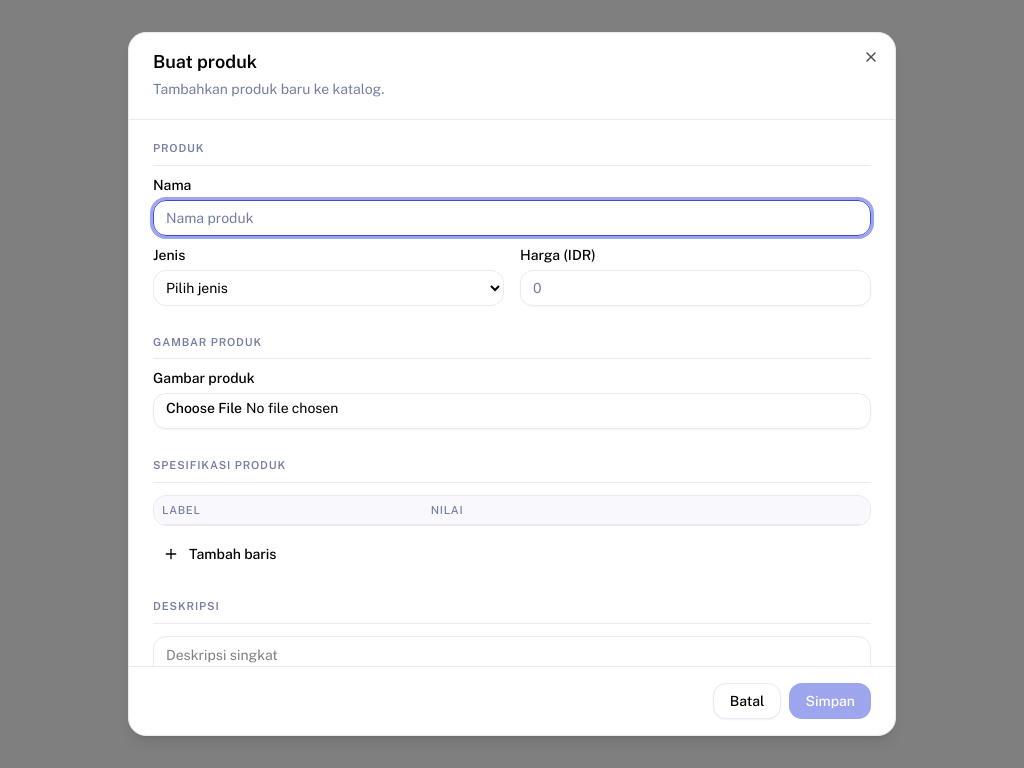
Test: ProductModal › requires at least one exam checked before submit is enabled for exam type
This screenshot has width=1024, height=768.
Select "Ujian" in the dropdown labelled "Jenis": (328,288) [153, 270, 504, 306]
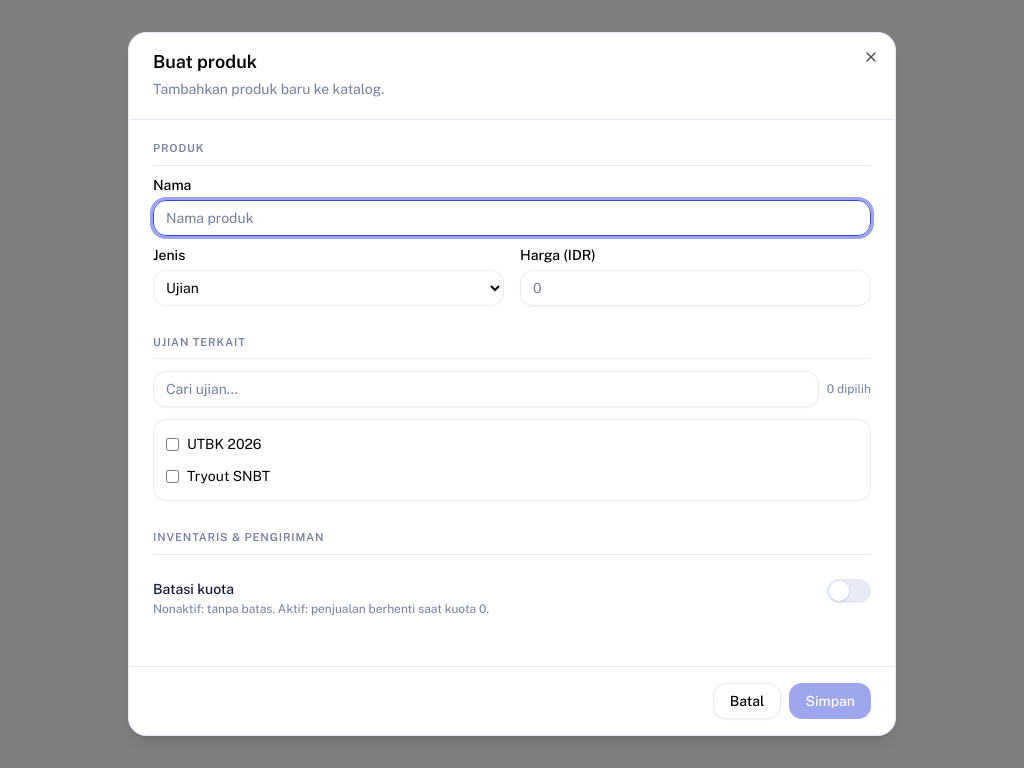
In the field labelled "Nama": (512,218) [153, 200, 871, 236], type "Paket Ujian"
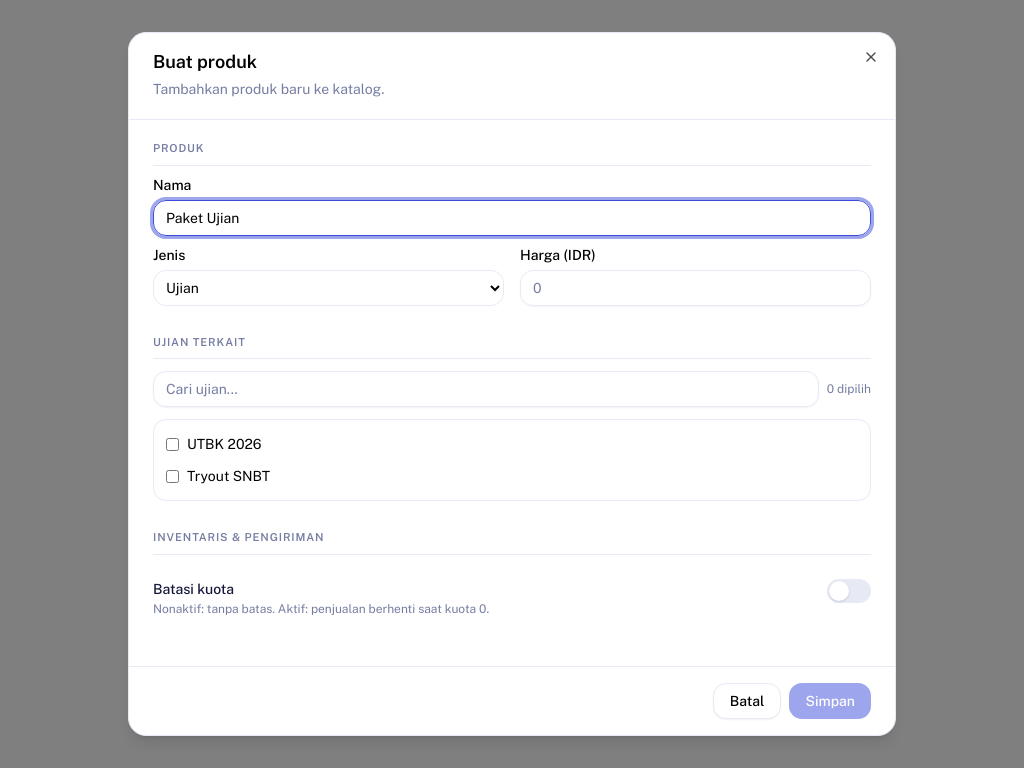
In the number field labelled "Harga (IDR)": (696,288) [520, 270, 871, 306], type "100000"
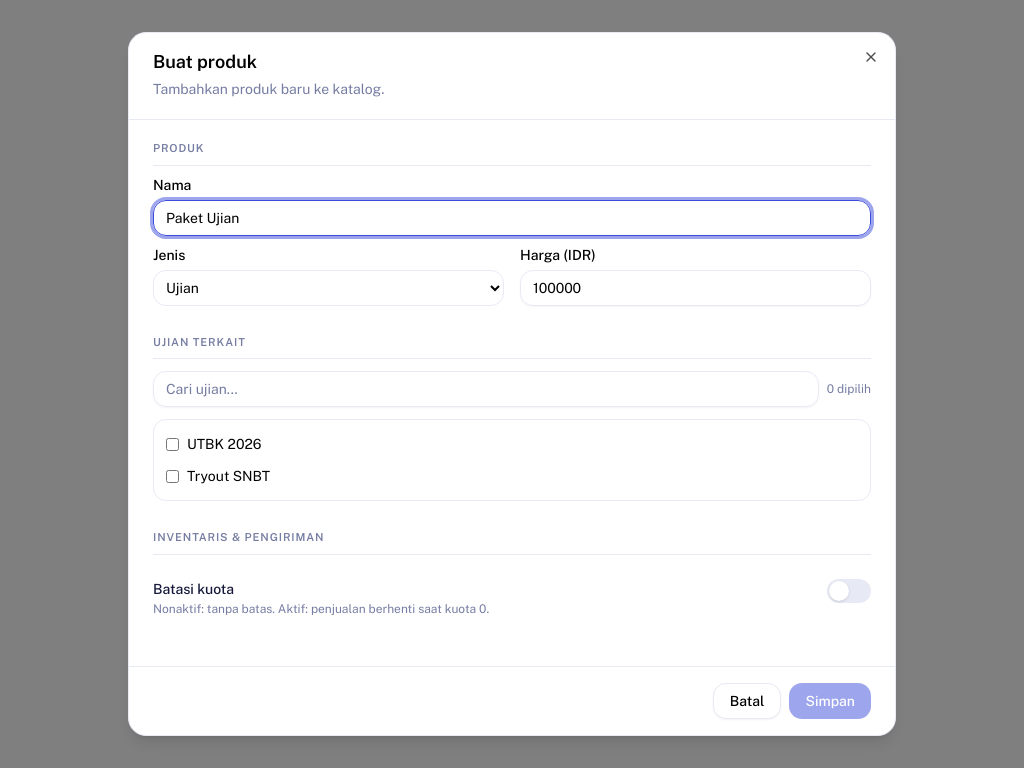
Expected: the button "Simpan" is disabled, [790, 683, 871, 719]
Click the checkbox labelled "UTBK 2026": (172,444) [166, 438, 179, 450]
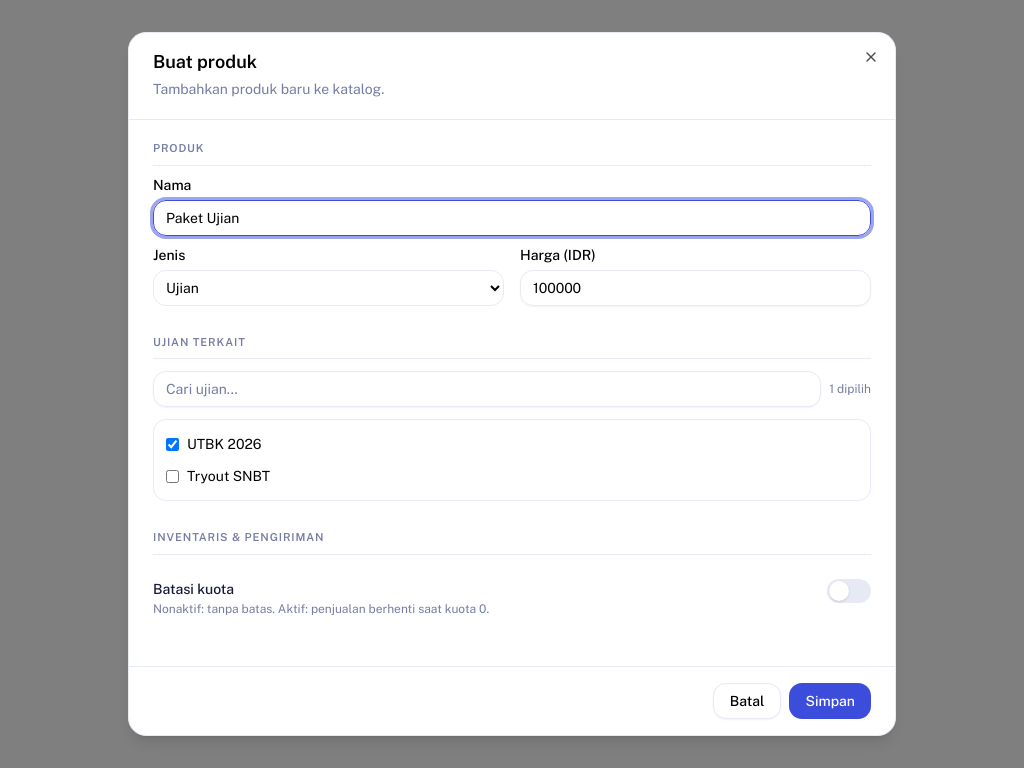
Result: the button "Simpan" is enabled at [790, 683, 871, 719]
